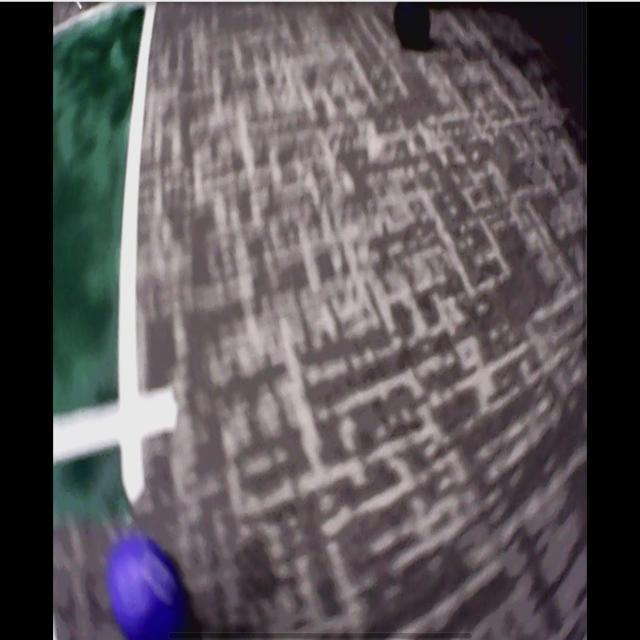ball: (111, 541, 179, 640)
